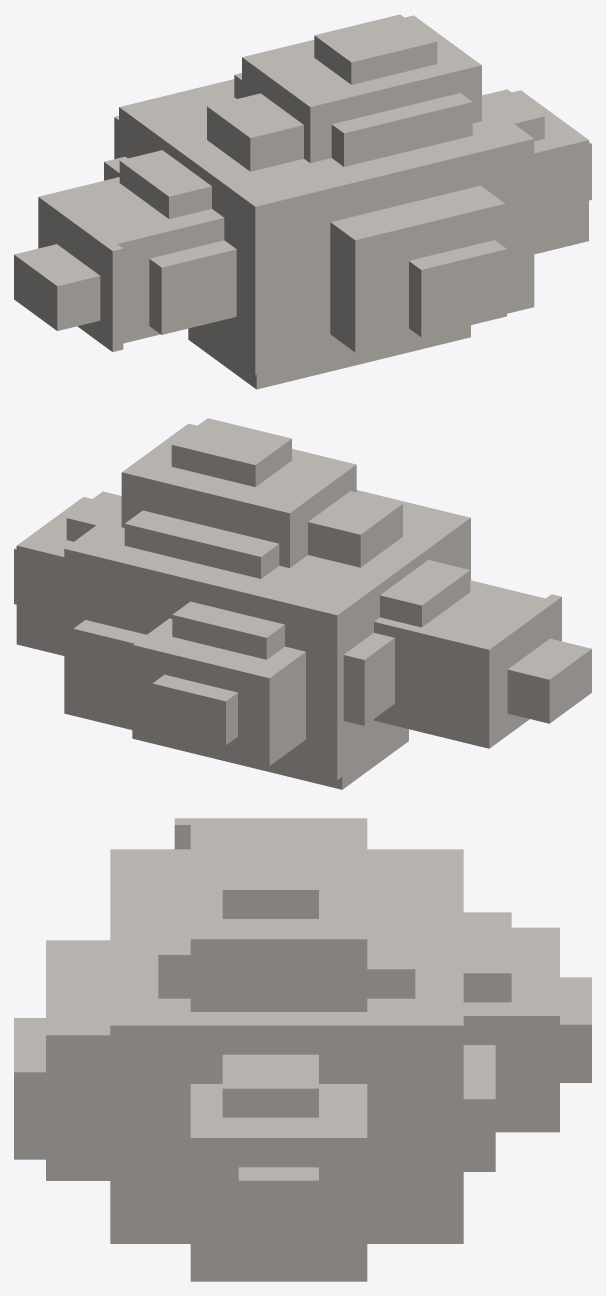
The model's file is Hospital-3.obj.
3 renders of one model, top to bottom at view 1: azimuth 30°, elevation 25°; view 2: azimuth 150°, elevation 25°; view 3: azimuth 270°, elevation 25°, orthographic. The views are drawn at different scales.
Bounding box in the file's own units: 5.1 × 2.6 × 3.6.
Materials: 1 (1 with a texture image).
